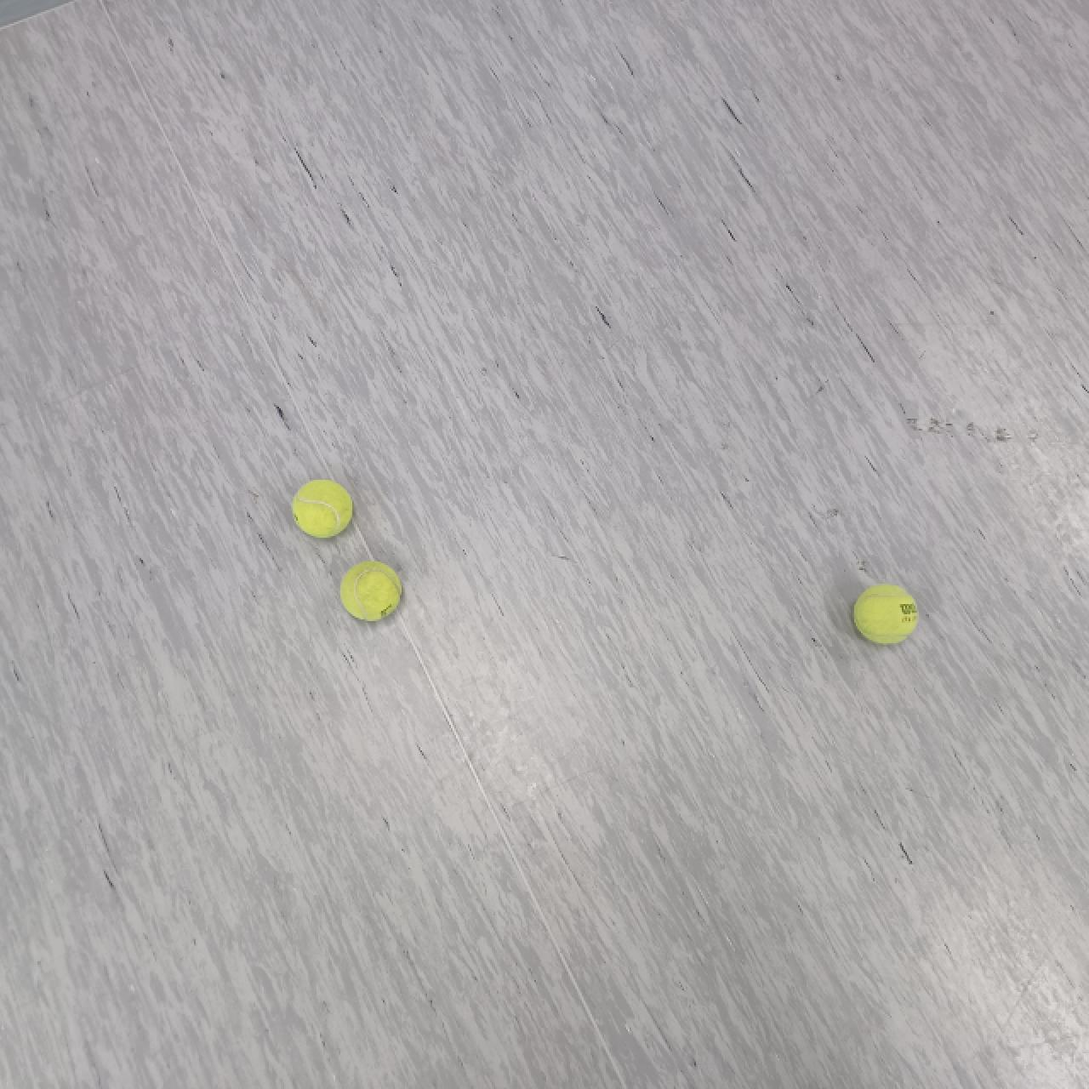tennis-ball: (851, 579, 921, 647), (339, 560, 404, 623), (292, 477, 354, 538)
